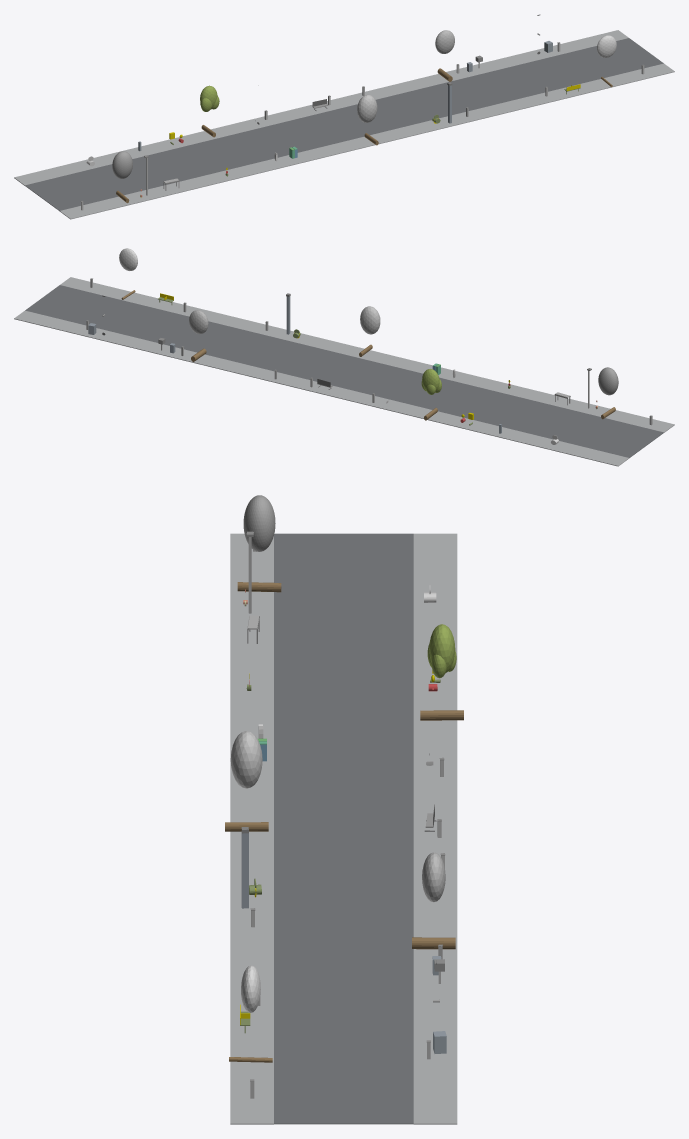
3 views of the same model, one above another, from view 1: azimuth 30°, elevation 25°; view 2: azimuth 150°, elevation 25°; view 3: azimuth 270°, elevation 25° (orthographic). The views are drawn at different scales.
Visible parts, largest first — view 1: road_slab, sidewalk_left, sidewalk_right, inst_0014, inst_0012, inst_0013, inst_0015, inst_0016; view 2: road_slab, sidewalk_right, sidewalk_left, inst_0014, inst_0012, inst_0013, inst_0015, inst_0016; view 3: road_slab, sidewalk_right, sidewalk_left, inst_0014, inst_0012, inst_0013, inst_0015, inst_0016.
Boxes of the visible parts, x1,y1,x2,y2 form: road_slab: (25, 38, 663, 210); sidewalk_left: (59, 63, 674, 219); sidewalk_right: (14, 30, 628, 185); inst_0014: (357, 94, 378, 145); inst_0012: (112, 151, 132, 203); inst_0013: (200, 85, 219, 137); inst_0015: (435, 30, 454, 81); inst_0016: (597, 35, 616, 87); road_slab: (25, 285, 663, 457); sidewalk_right: (14, 310, 629, 466); sidewalk_left: (60, 277, 674, 432); inst_0014: (359, 306, 380, 356); inst_0012: (598, 367, 618, 419); inst_0013: (421, 369, 441, 420); inst_0015: (189, 310, 208, 361); inst_0016: (119, 248, 137, 299); road_slab: (274, 533, 413, 1124); sidewalk_right: (413, 533, 457, 1124); sidewalk_left: (230, 533, 273, 1124); inst_0014: (225, 731, 268, 831); inst_0012: (237, 495, 281, 592); inst_0013: (420, 624, 463, 720); inst_0015: (412, 852, 455, 949); inst_0016: (229, 965, 272, 1062).
Size of the model in its own units: 80 by 6.08 by 13.71.
